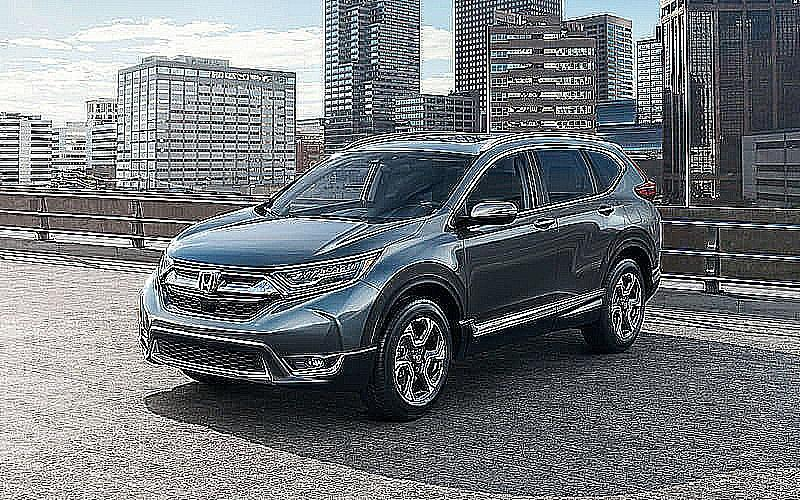Car hood: (163, 201, 427, 268)
Fender - -F-L-: (358, 202, 469, 352)
Fender - -R-L-: (610, 186, 655, 255)
Front bumper: (134, 288, 389, 396)
Headlight - -L-: (263, 245, 387, 302)
Headlight - -R-: (148, 241, 180, 291)
Passenger-s door - -F-L-: (468, 145, 559, 334)
Passenger-s door - -R-L-: (556, 145, 628, 310)
Rear bumper: (640, 245, 673, 306)
Rear light - -L-: (614, 141, 663, 204)
Side bumper - -L-: (451, 285, 616, 362)
Side mirror - -L-: (455, 195, 520, 231)
